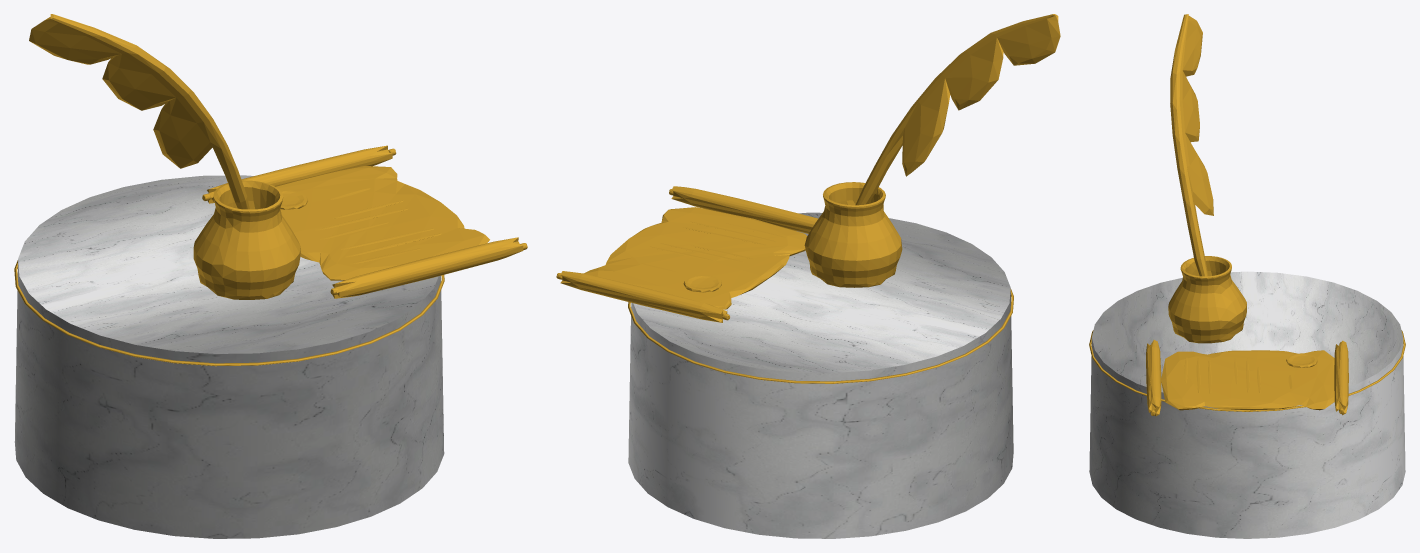
File: literature.glb
The picture shows the model from 3 angles, left to right: view 1: azimuth 30°, elevation 25°; view 2: azimuth 150°, elevation 25°; view 3: azimuth 270°, elevation 25°; orthographic projection. The views are drawn at different scales.
Parts seen in each view (by area): view 1: marble_column, literature__orient, gold_inlay_ring; view 2: marble_column, literature__orient, gold_inlay_ring; view 3: marble_column, literature__orient, gold_inlay_ring.
Part boxes in pixels (left/top/right/bottom): marble_column: left=14, top=175, right=444, bottom=538; literature__orient: left=29, top=14, right=527, bottom=299; gold_inlay_ring: left=14, top=260, right=444, bottom=366; marble_column: left=628, top=212, right=1013, bottom=538; literature__orient: left=556, top=14, right=1060, bottom=322; gold_inlay_ring: left=628, top=288, right=1013, bottom=383; marble_column: left=1089, top=271, right=1405, bottom=538; literature__orient: left=1146, top=14, right=1348, bottom=416; gold_inlay_ring: left=1089, top=330, right=1405, bottom=411.
Size of what is drawn, in the model's own units: 0.5656 by 0.6009 by 0.4543.
Materials: 10 (1 with a texture image).
